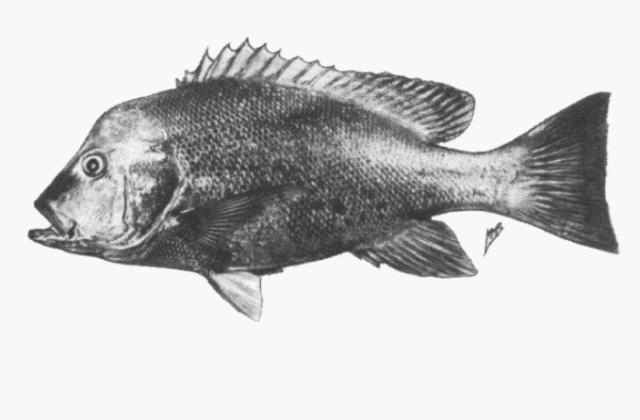Mulut: (20, 186, 72, 258)
Sirip Anal: (352, 215, 486, 284)
Sirip Dada: (180, 180, 300, 258)
Sirip Ekor: (512, 90, 626, 258)
Sirip Perut: (206, 258, 270, 332)
Sirip Punggung: (172, 28, 480, 148)
